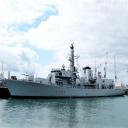Fragata: (2, 40, 127, 101)
